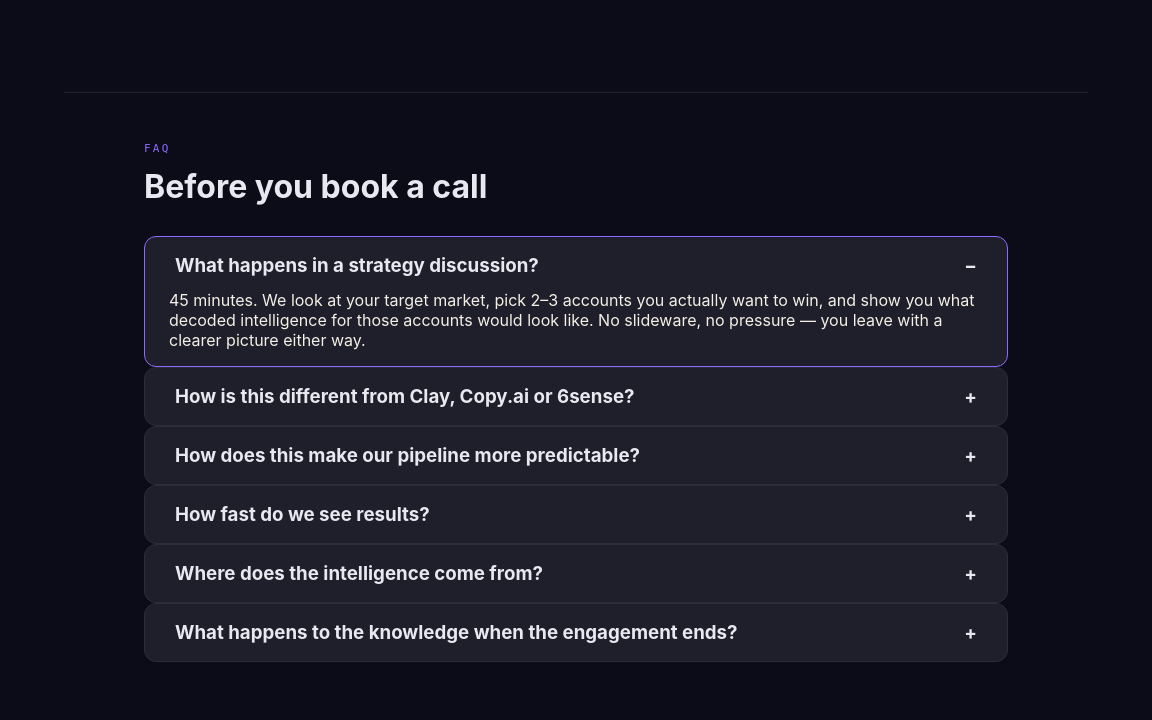
it: Phase 6A sections › uses accessible FAQ disclosure controls
Click the button "How is this different from Clay, Copy.ai or 6sense? +". click: (576, 397)
box: [169,384,983,409]
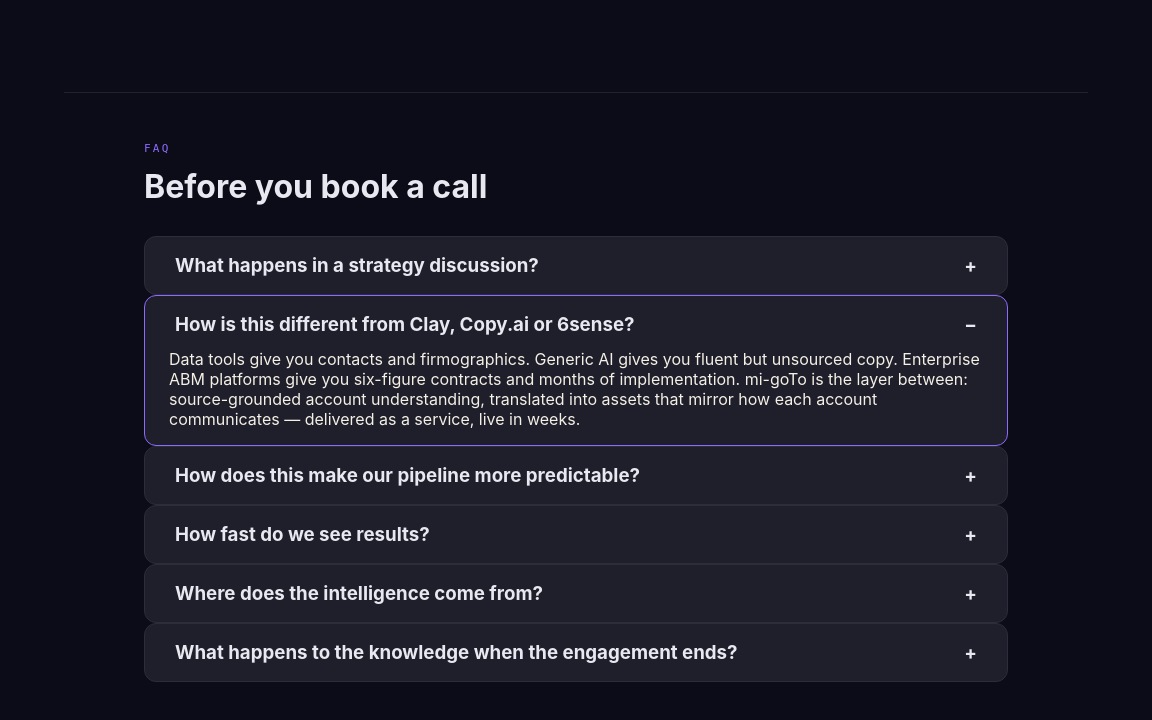
Expected: the button "What happens in a strategy discussion? +" is collapsed, [169,253,983,278]
Expected: the button "How is this different from Clay, Copy.ai or 6sense? −" is expanded, [169,312,983,337]
Expected: the text "Data tools give you contacts and firmographics. Generic AI gives you fluent but unsourced copy. Enterprise ABM platforms give you six-figure contracts and month" is shown, [169,349,980,429]
